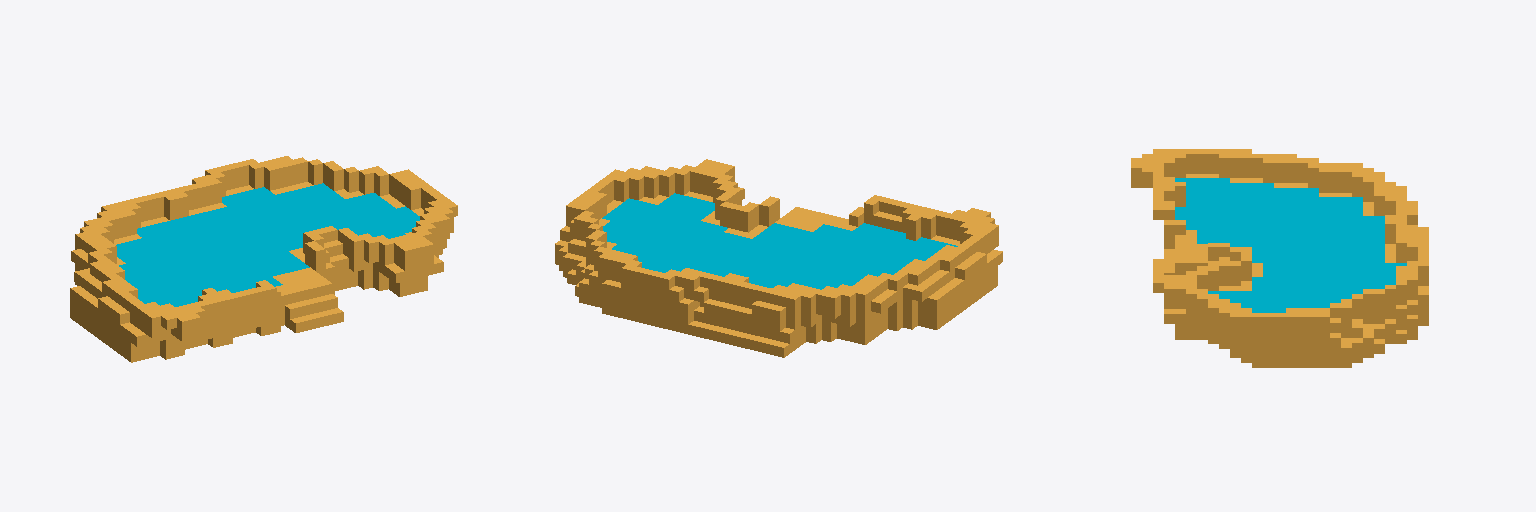
3 views of the same model, side by side, from view 1: azimuth 30°, elevation 25°; view 2: azimuth 150°, elevation 25°; view 3: azimuth 270°, elevation 25° (orthographic).
Parts seen in each view (by area): view 1: object 1; view 2: object 1; view 3: object 1.
Part boxes in pixels (left/top/right/bottom): object 1: left=70, top=156, right=457, bottom=362; object 1: left=555, top=159, right=1002, bottom=357; object 1: left=1131, top=149, right=1428, bottom=367.
Size of the model in its own units: 3.7 by 0.5 by 2.7.
1 materials, 1 textured.